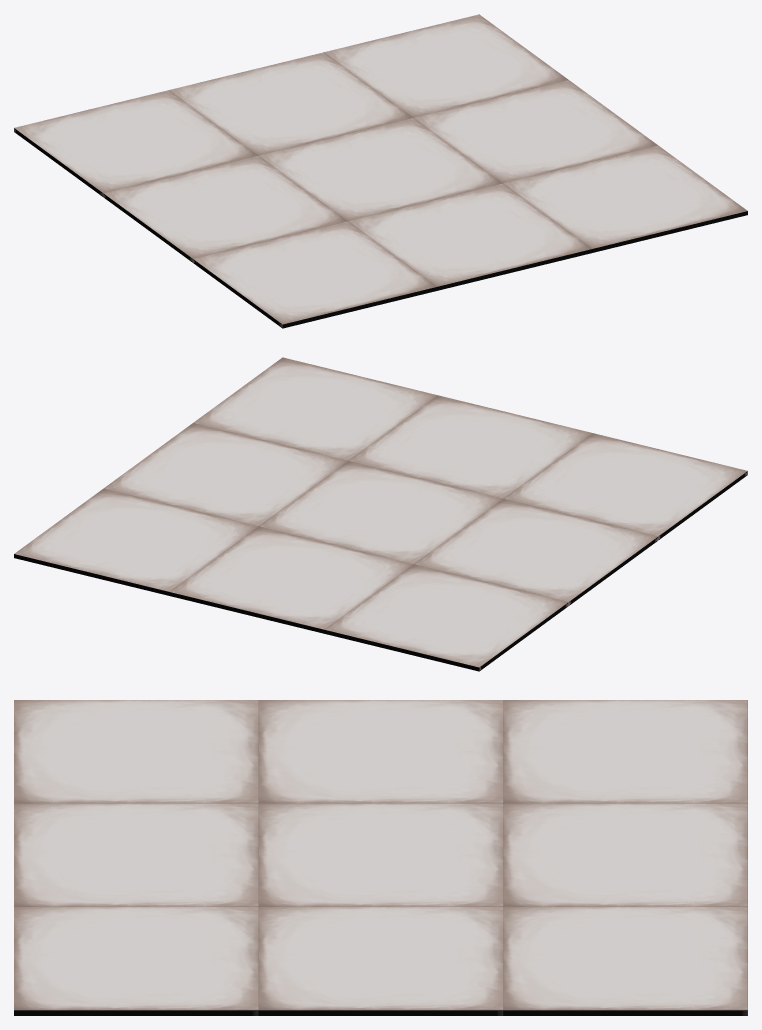
The model's file is tile9.obj.
3 views of the same model, one above another, from view 1: azimuth 30°, elevation 25°; view 2: azimuth 150°, elevation 25°; view 3: azimuth 270°, elevation 25° (orthographic). The views are drawn at different scales.
Visible parts, largest first — view 1: polySurface9; view 2: polySurface9; view 3: polySurface9.
Boxes of the visible parts, x1,y1,x2,y2 form: polySurface9: (14,14,747,328); polySurface9: (14,357,747,671); polySurface9: (14,700,747,1015).
Size of the model in its own units: 3 by 0.025 by 3.
1 material, 1 textured.
